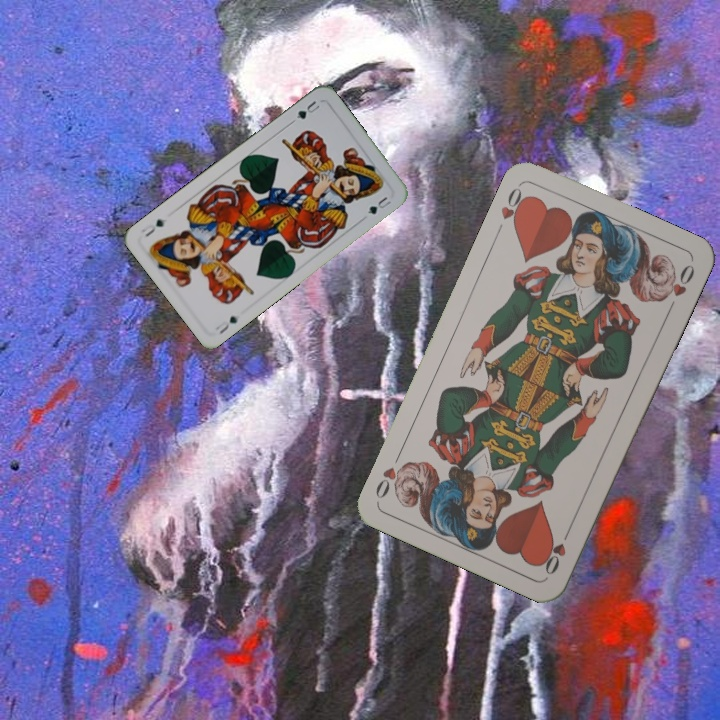GU: (292, 96, 322, 122), (211, 312, 241, 337)
HO: (539, 523, 574, 578), (496, 183, 531, 231)
